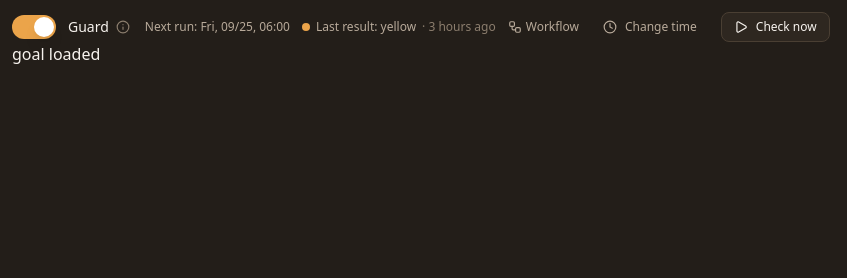
Test: GoalGuardControl › explanation › links the last result of a switched-on guard with its light and when it ran
This screenshot has width=847, height=278.
Expected: the link with test id "goal-guard-last-result" reads "Last result: yellow · 3 hours ago", [302,19,496,35]
Hover over the button named "What does the guard do?": x=123, y=27 [113,17,133,37]
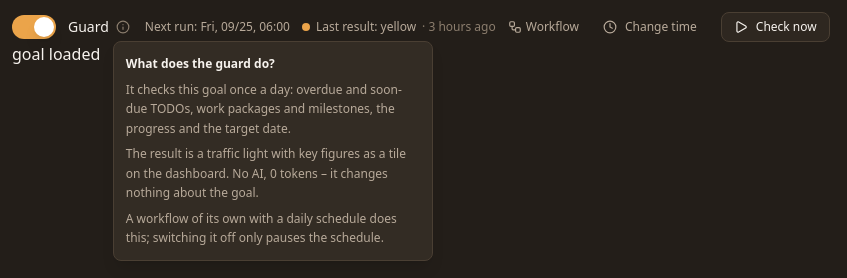
Result: the tooltip shows "A workflow of its own with a daily schedule does this" at [126,210,397,246]
